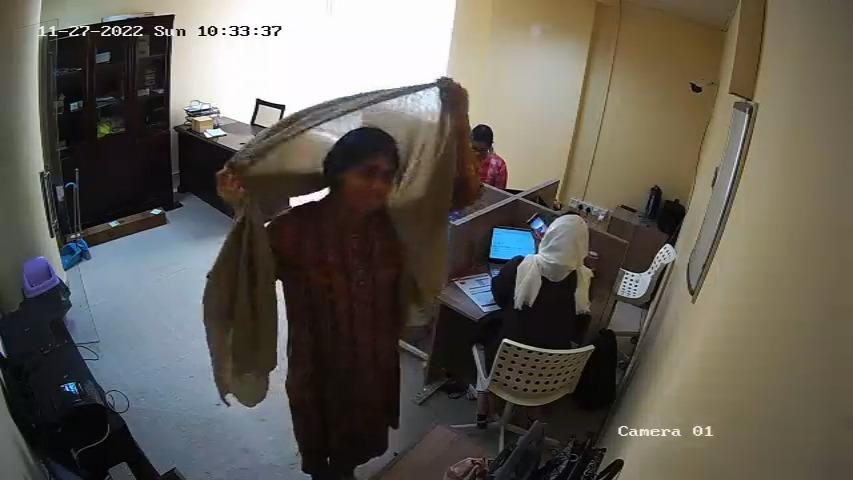no_apron: (305, 219, 394, 458)
